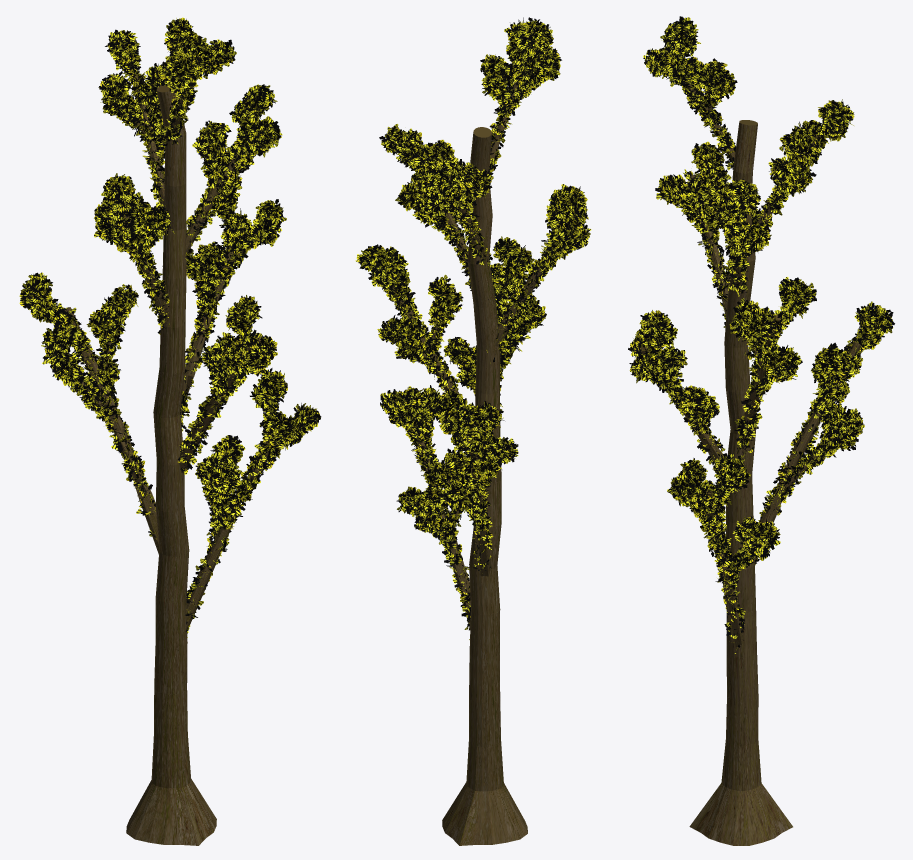
The model's file is baldcypress_v03.fbx.
The picture shows the model from 3 angles, left to right: view 1: azimuth 30°, elevation 25°; view 2: azimuth 150°, elevation 25°; view 3: azimuth 270°, elevation 25°; orthographic projection. The views are drawn at different scales.
Parts seen in each view (by area): view 1: baldcypress_v03; view 2: baldcypress_v03; view 3: baldcypress_v03.
Part boxes in pixels (x1=…): baldcypress_v03: x1=19, y1=17, x2=321, y2=845; baldcypress_v03: x1=355, y1=17, x2=591, y2=845; baldcypress_v03: x1=628, y1=16, x2=894, y2=845.
Bounding box in the file's own units: 867 × 992 × 3187.
Materials: 2 (2 with a texture image).
